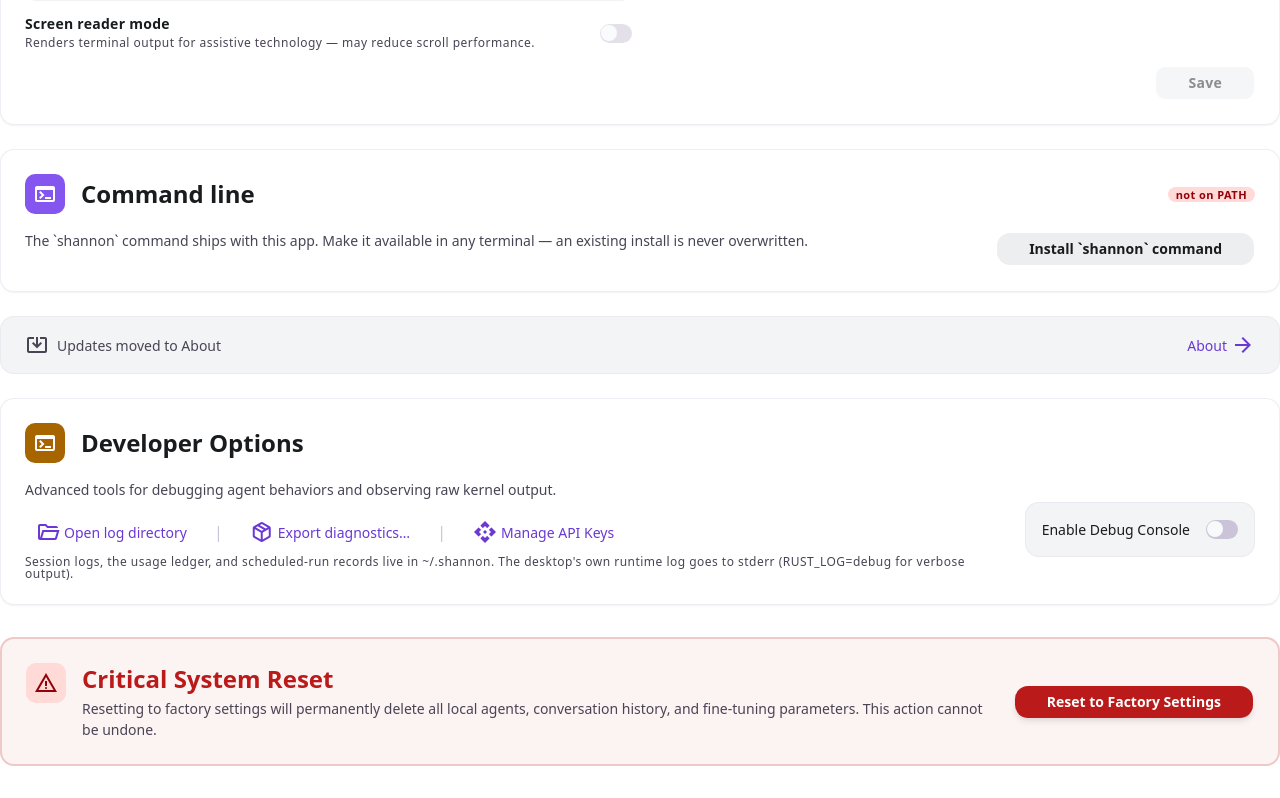
Test case: AdvancedSettings › opens api keys modal on Manage API Keys click
(page scrolled)
Click the button "Manage API Keys" at (544, 532), box [462,516,625,548]
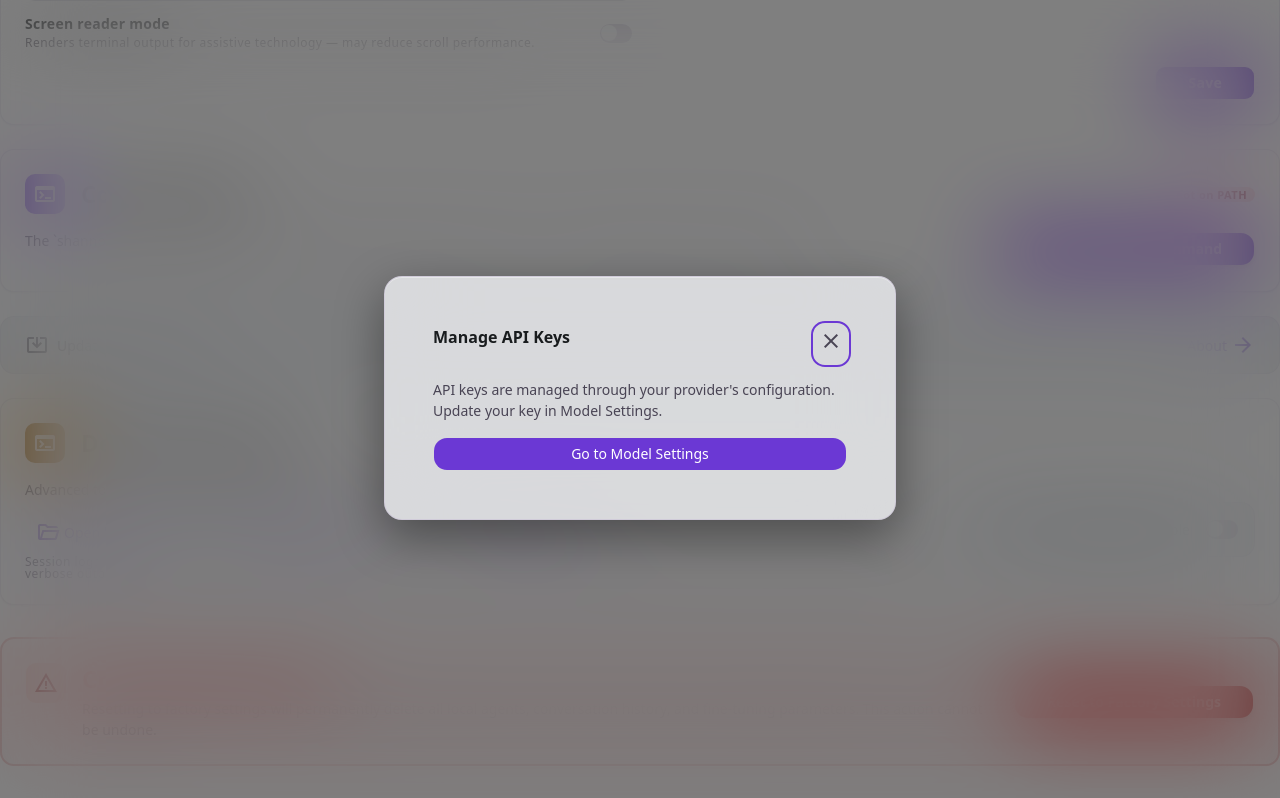
Expected: the button "Go to Model Settings" is shown, [433,437,847,471]
